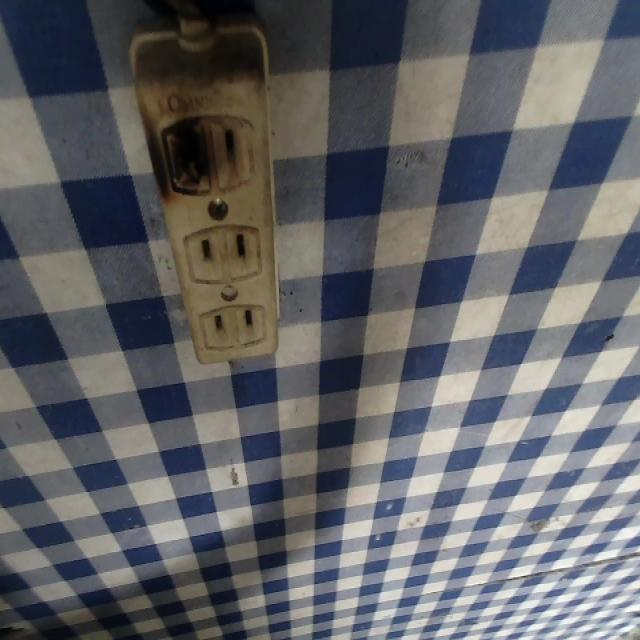-: (148, 108, 224, 208)
